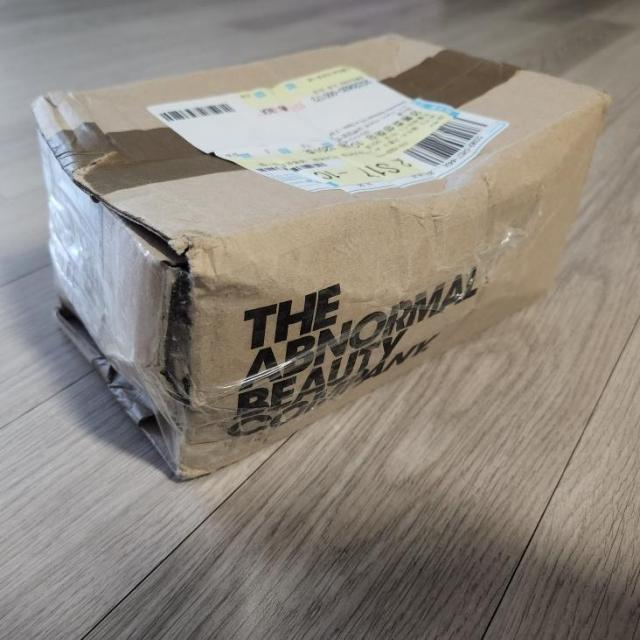damaged: (143, 237, 195, 449)
